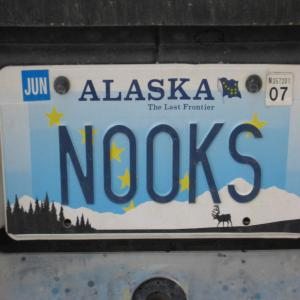Vehicle-registration-plate: (4, 55, 300, 260)
